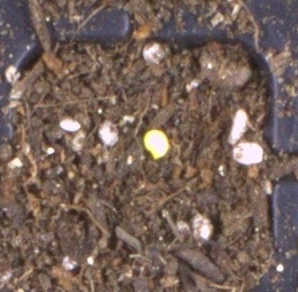chilli seed: (143, 128, 169, 160)
